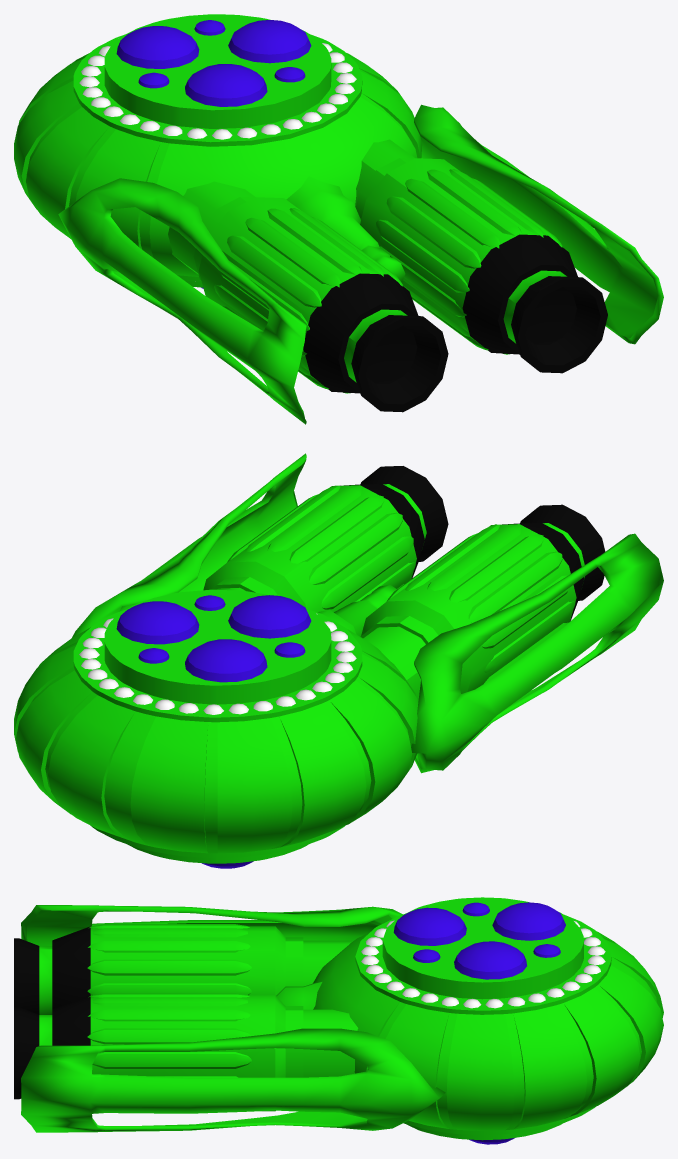
Rendered from att5-02.fbx.
3 views of the same model, one above another, from view 1: azimuth 30°, elevation 25°; view 2: azimuth 150°, elevation 25°; view 3: azimuth 270°, elevation 25° (orthographic). The views are drawn at different scales.
Parts seen in each view (by area): view 1: Sphere.007; view 2: Sphere.007; view 3: Sphere.007.
Part boxes in pixels (x1,y1,x2,y2): Sphere.007: (14, 14, 663, 424); Sphere.007: (14, 453, 663, 868); Sphere.007: (14, 897, 663, 1144).
Bounding box in the file's own units: 306 × 190 × 99.2.
